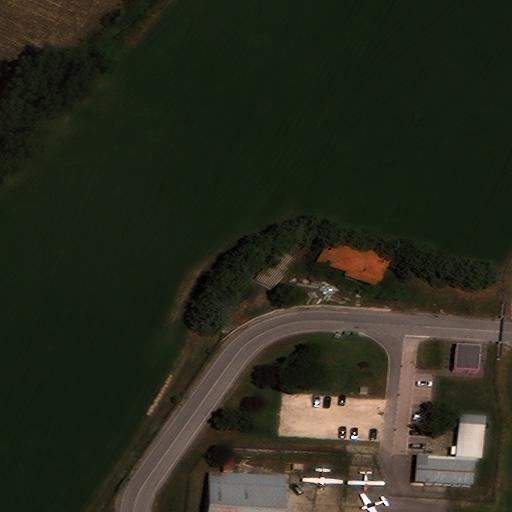Small Civil Transport: (302, 467, 342, 486), (347, 469, 384, 488), (358, 494, 386, 512)
